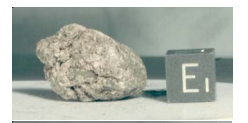Basalt: (38, 28, 141, 107)
